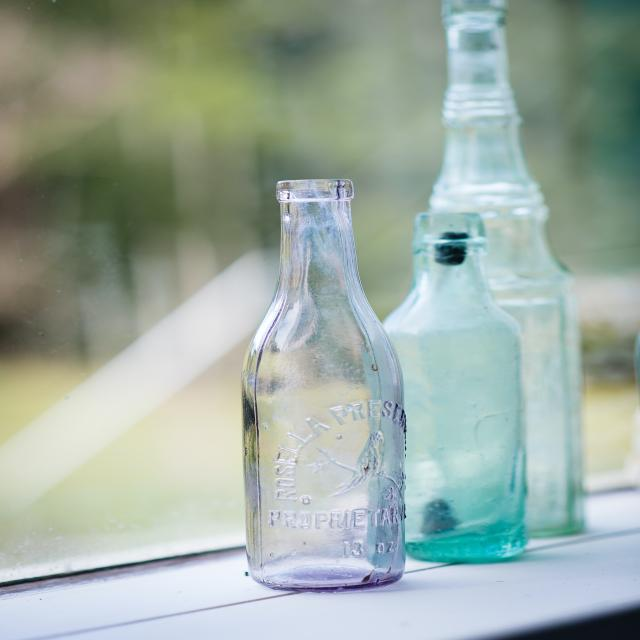Glass: (413, 2, 590, 535), (233, 180, 410, 590), (382, 212, 538, 560)
